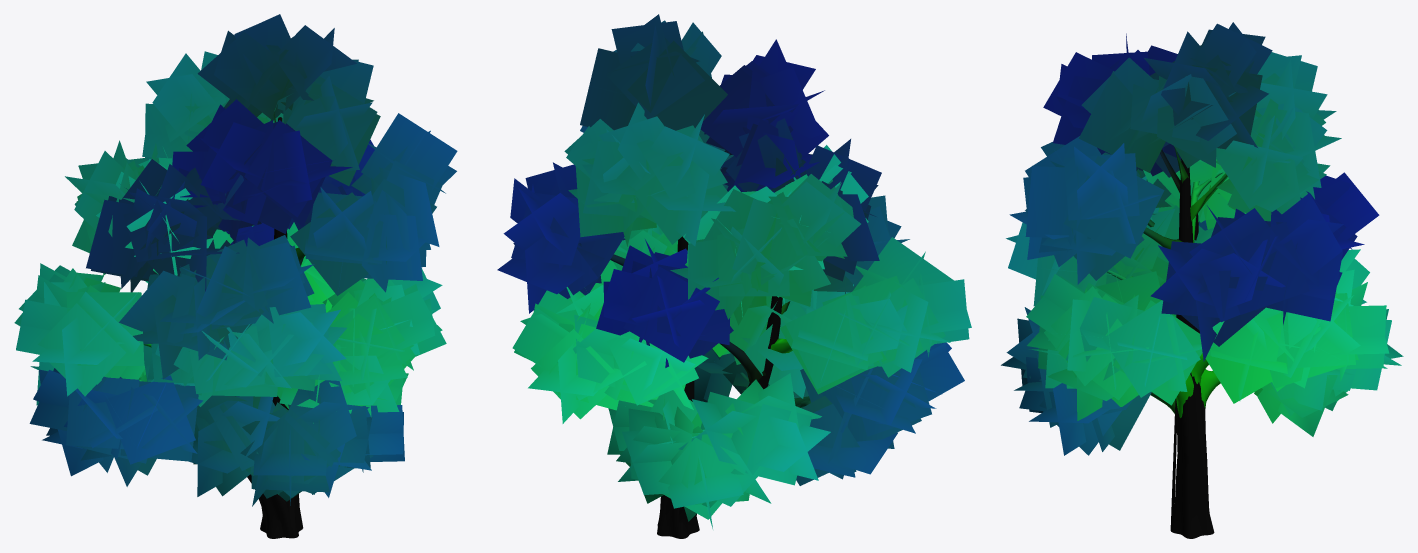
File: Tree2_v2.fbx
3 views of the same model, side by side, from view 1: azimuth 30°, elevation 25°; view 2: azimuth 150°, elevation 25°; view 3: azimuth 270°, elevation 25° (orthographic).
Visible parts, largest first — view 1: Tree_1, Tree_0; view 2: Tree_1, Tree_0; view 3: Tree_1, Tree_0.
Boxes of the visible parts, x1=… form: Tree_1: x1=14, y1=14, x2=457, y2=506; Tree_0: x1=139, y1=112, x2=304, y2=538; Tree_1: x1=497, y1=14, x2=971, y2=528; Tree_0: x1=578, y1=150, x2=810, y2=538; Tree_1: x1=1001, y1=22, x2=1403, y2=455; Tree_0: x1=1107, y1=147, x2=1227, y2=538.
Bounding box in the file's own units: 664 × 779 × 558.
